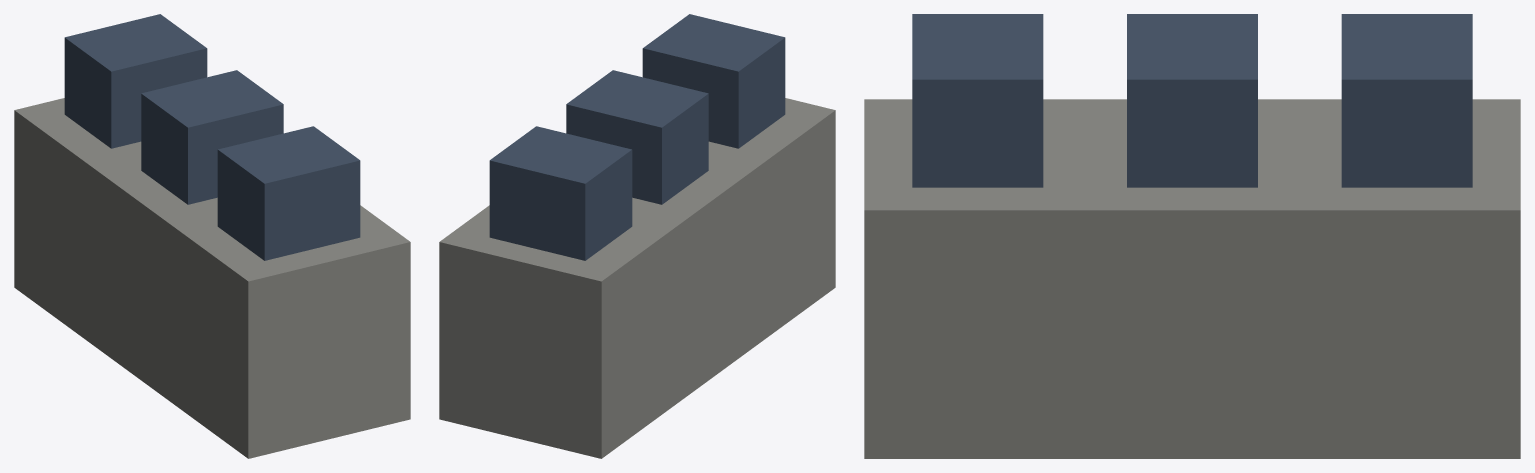
File: ko300_valves.obj
The picture shows the model from 3 angles, left to right: view 1: azimuth 30°, elevation 25°; view 2: azimuth 150°, elevation 25°; view 3: azimuth 270°, elevation 25°; orthographic projection. The views are drawn at different scales.
Parts seen in each view (by area): view 1: ko300_valves; view 2: ko300_valves; view 3: ko300_valves.
Boxes of the visible parts, bbox=[...] form: ko300_valves: bbox=[14, 14, 410, 458]; ko300_valves: bbox=[439, 14, 835, 458]; ko300_valves: bbox=[864, 14, 1520, 458].
Size of the model in its own units: 0.44 by 0.66 by 1.1.
